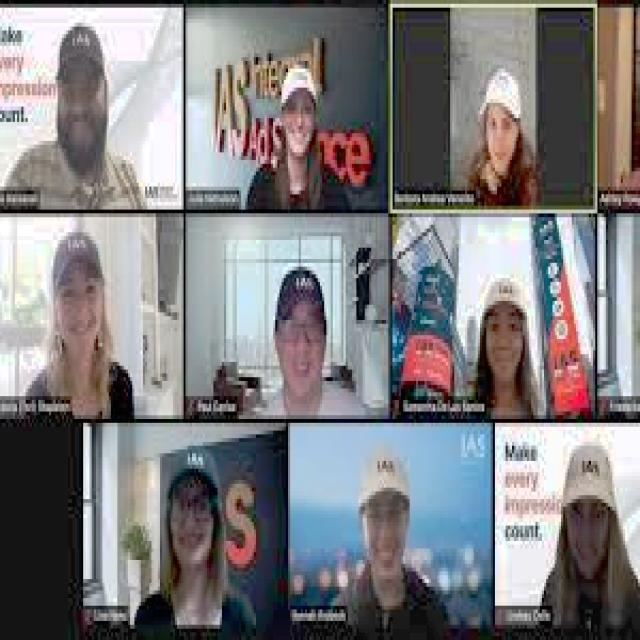TOPI: (262, 263, 331, 343), (156, 430, 224, 510), (554, 446, 618, 530), (354, 442, 414, 522), (471, 266, 540, 332), (47, 15, 111, 84), (45, 225, 109, 293), (474, 61, 527, 129), (277, 49, 320, 106)
